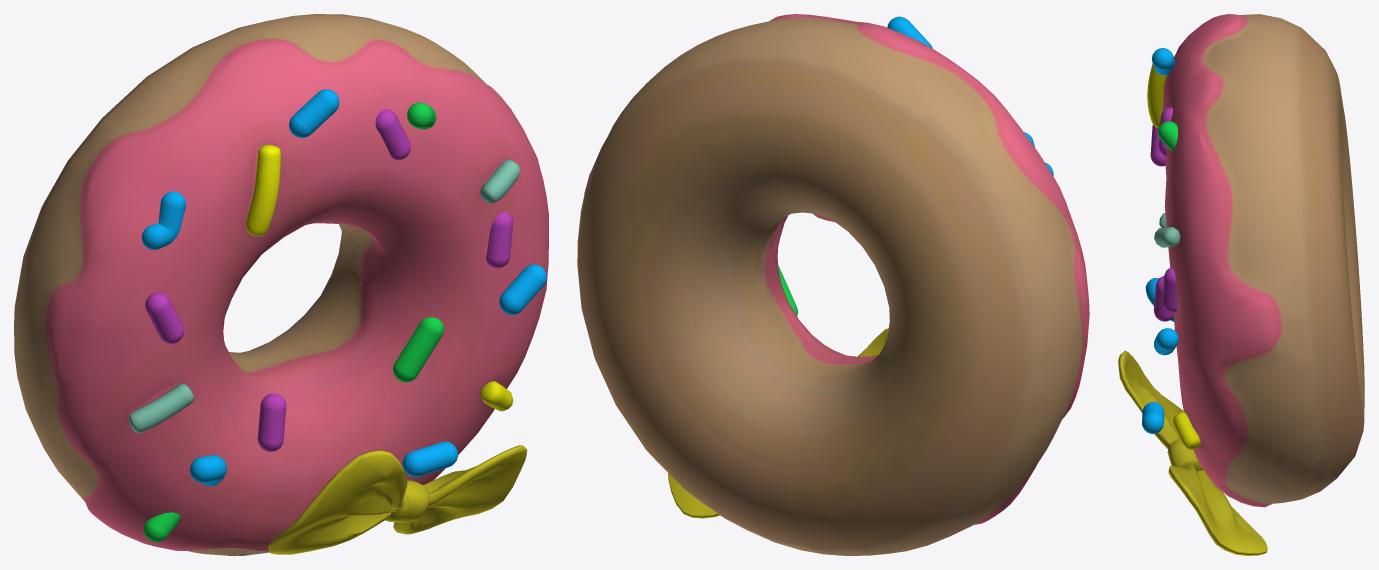
The model's file is donut.fbx.
The picture shows the model from 3 angles, left to right: view 1: azimuth 30°, elevation 25°; view 2: azimuth 150°, elevation 25°; view 3: azimuth 270°, elevation 25°; orthographic projection. The views are drawn at different scales.
Visible parts, largest first — view 1: node_id43, root (×5), node_id82 (×2), node_id72 (×2), node_id47 (×2), node_id92; view 2: node_id43; view 3: node_id43, node_id82 (×2), node_id72 (×2), node_id47, node_id92, root.
Part boxes in pixels (x1,y1,x2,y2): node_id43: (14,14,548,555); root (×5): (142,102,444,542); node_id82 (×2): (402,264,546,476); node_id72 (×2): (145,292,286,451); node_id47 (×2): (375,109,512,268); node_id92: (289,89,339,137); node_id43: (577,14,1089,555); node_id43: (1118,14,1364,555); node_id82 (×2): (1142,328,1178,433); node_id72 (×2): (1150,124,1173,321); node_id47: (1162,267,1177,312); node_id92: (1152,48,1174,75); root: (1158,121,1177,151).
Bounding box in the file's own units: 0.512 × 0.5213 × 0.2551.
Materials: 9 (3 with a texture image).
